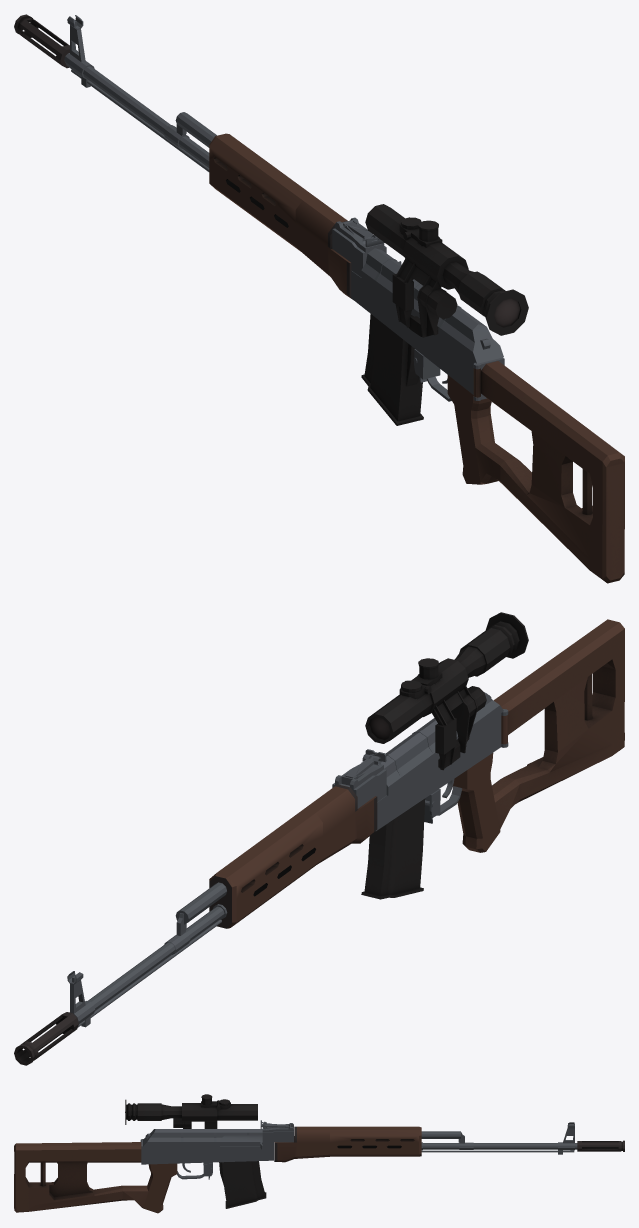
The model's file is svd.glb.
3 views of the same model, one above another, from view 1: azimuth 30°, elevation 25°; view 2: azimuth 150°, elevation 25°; view 3: azimuth 270°, elevation 25° (orthographic). The views are drawn at different scales.
Visible parts, largest first — view 1: Stock_Sniper, PKA, Body, Handguard_Sniper, Magazine_Sniper, Barrel_Sniper, Grip, Muzzle_Brake_Sniper; view 2: Stock_Sniper, Handguard_Sniper, PKA, Body, Barrel_Sniper, Magazine_Sniper, Grip, Muzzle_Brake_Sniper; view 3: Stock_Sniper, Body, Handguard_Sniper, PKA, Barrel_Sniper, Magazine_Sniper, Grip, Muzzle_Brake_Sniper, Bolt.
Part boxes in pixels (bbox=[...]): Stock_Sniper: bbox=[473, 361, 624, 583]; PKA: bbox=[365, 204, 528, 337]; Body: bbox=[332, 217, 504, 401]; Handguard_Sniper: bbox=[209, 133, 352, 299]; Magazine_Sniper: bbox=[361, 314, 423, 425]; Barrel_Sniper: bbox=[64, 15, 216, 171]; Grip: bbox=[447, 375, 494, 484]; Muzzle_Brake_Sniper: bbox=[14, 14, 69, 68]; Stock_Sniper: bbox=[492, 619, 624, 829]; Handguard_Sniper: bbox=[209, 784, 377, 928]; PKA: bbox=[365, 612, 528, 770]; Body: bbox=[332, 692, 508, 831]; Barrel_Sniper: bbox=[67, 882, 227, 1027]; Magazine_Sniper: bbox=[361, 798, 425, 899]; Grip: bbox=[453, 753, 500, 852]; Muzzle_Brake_Sniper: bbox=[14, 1012, 78, 1065]; Stock_Sniper: bbox=[14, 1142, 148, 1212]; Body: bbox=[140, 1123, 293, 1179]; Handguard_Sniper: bbox=[274, 1126, 421, 1162]; PKA: bbox=[125, 1094, 257, 1128]; Barrel_Sniper: bbox=[421, 1122, 577, 1154]; Magazine_Sniper: bbox=[219, 1161, 266, 1208]; Grip: bbox=[141, 1163, 177, 1213]; Muzzle_Brake_Sniper: bbox=[577, 1140, 624, 1151]; Bolt: bbox=[220, 1135, 262, 1149].
Size of the model in its own units: 5.56 by 22.69 by 109.
Materials: 4 (4 with a texture image).
